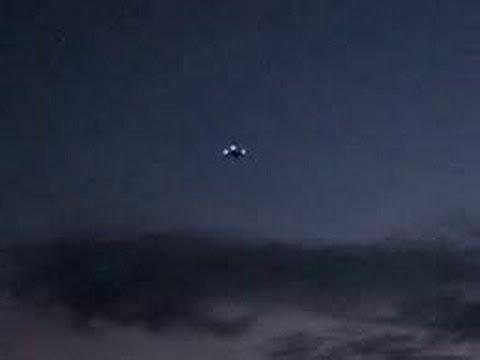Plane: (208, 137, 259, 161)
